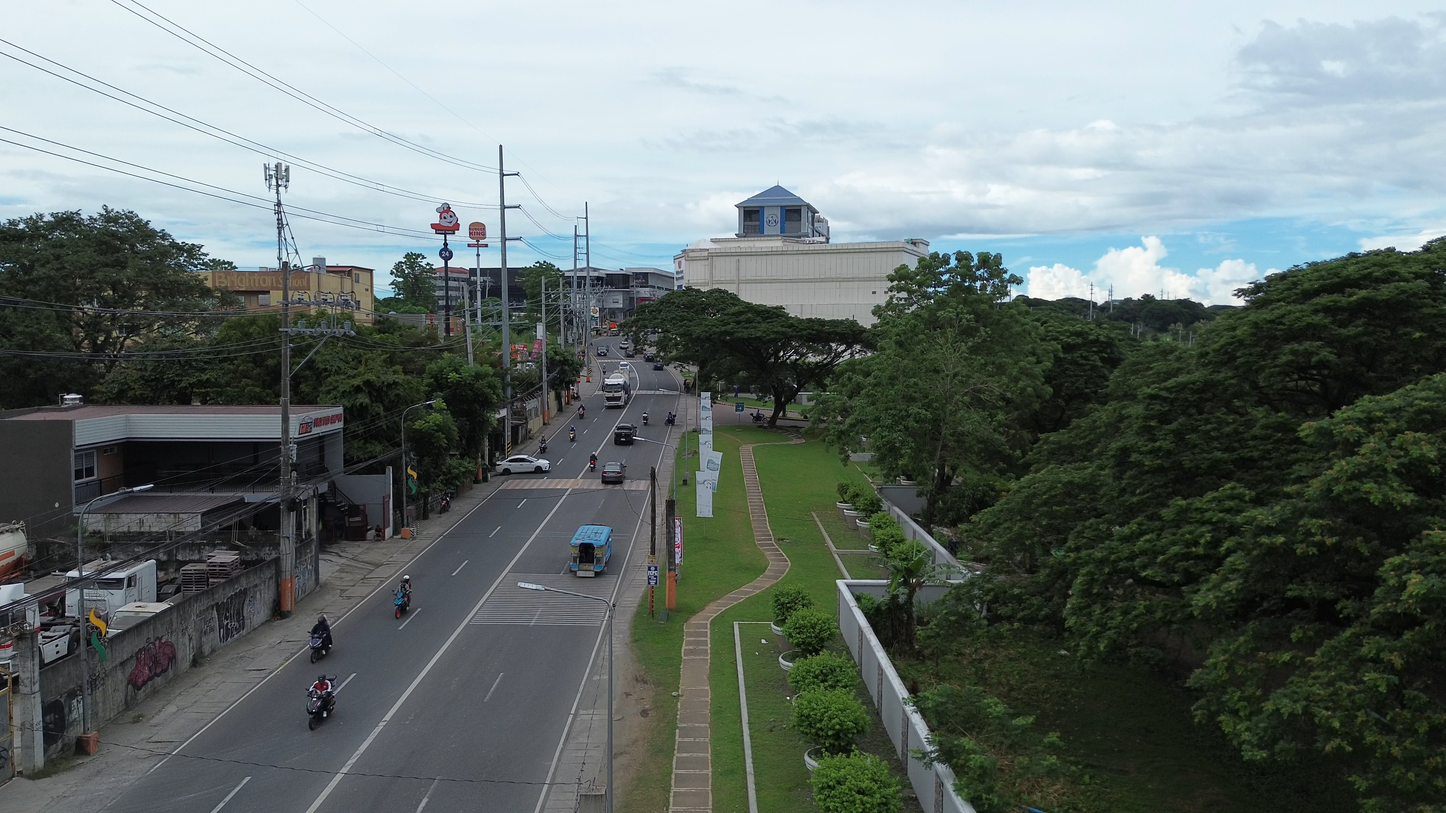car: (498, 455, 549, 474), (601, 463, 625, 484), (596, 344, 608, 357), (618, 361, 631, 370), (652, 361, 664, 370)
motorcycle: (307, 686, 335, 730), (310, 634, 331, 663), (394, 590, 409, 618), (439, 494, 450, 513), (751, 412, 766, 423), (665, 412, 675, 426), (539, 438, 548, 453), (641, 412, 649, 426), (590, 455, 596, 472), (570, 428, 576, 442)
vehicle: (84, 560, 157, 617), (569, 525, 612, 577), (107, 602, 172, 636), (0, 522, 29, 579), (307, 676, 335, 730), (603, 374, 631, 408), (613, 424, 636, 445), (394, 589, 409, 617), (596, 344, 609, 357), (617, 361, 631, 372), (624, 347, 636, 358), (641, 412, 649, 426), (644, 352, 655, 362)
